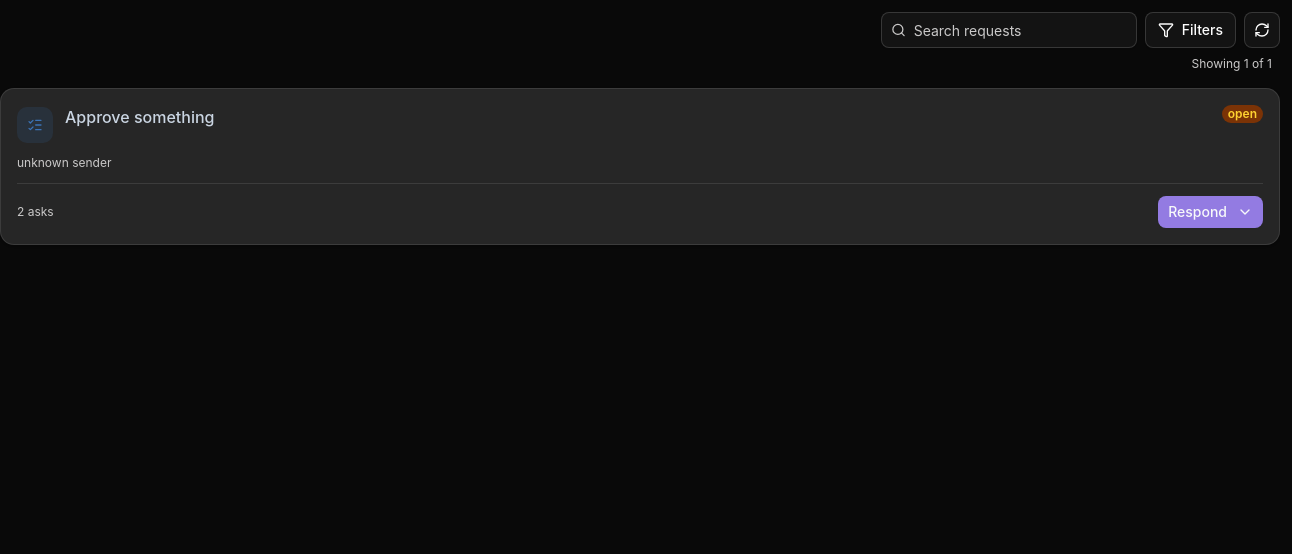
Test: inline form › needs a form for multi-ask requests and expands in place
Click the button with test id "hitl-respond-toggle": coordinates (1211, 212) [1158,196,1263,228]
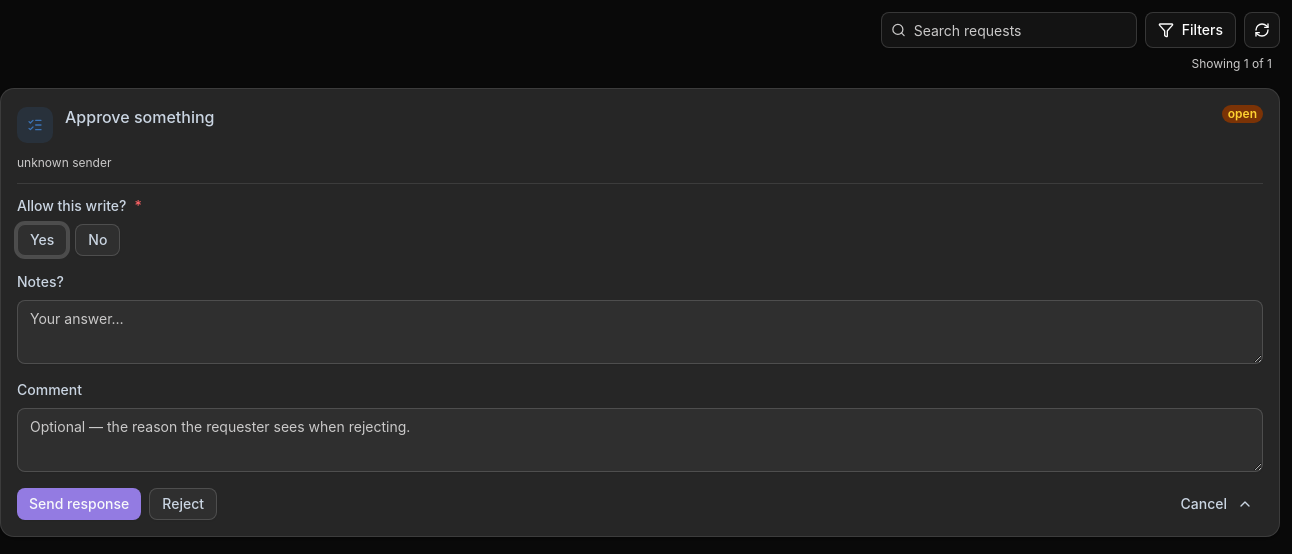
expect the button with test id "hitl-submit" is shown: met, box [17,488,141,520]
